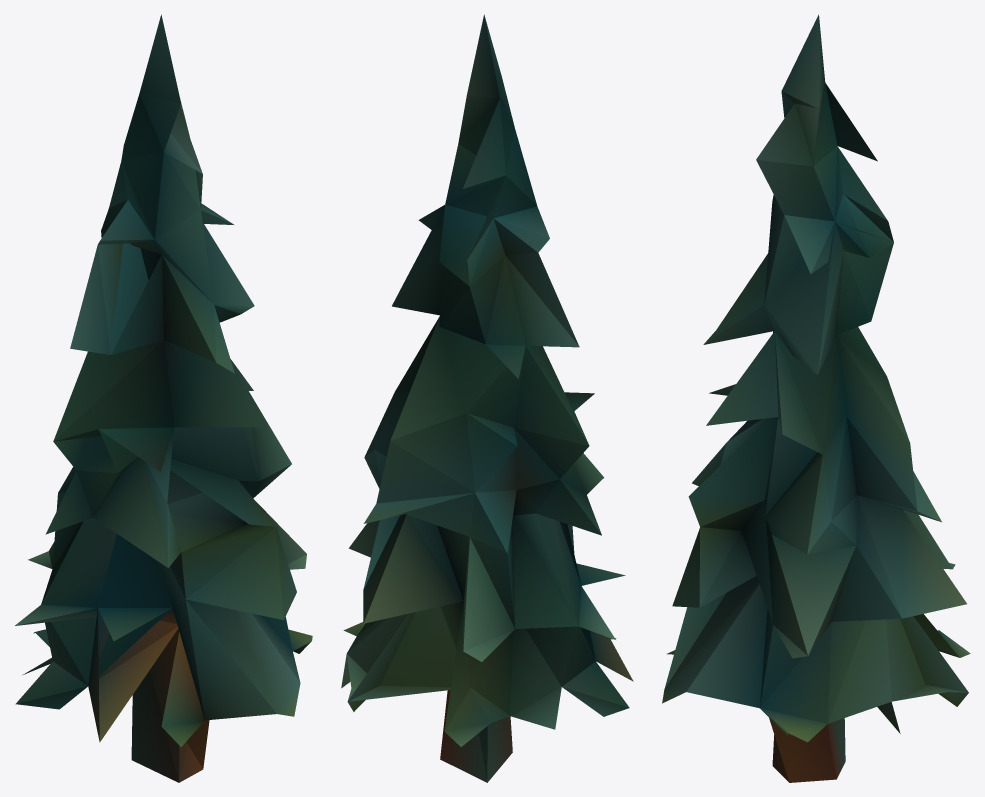
File: tree-fir.glb
The picture shows the model from 3 angles, left to right: view 1: azimuth 30°, elevation 25°; view 2: azimuth 150°, elevation 25°; view 3: azimuth 270°, elevation 25°; orthographic projection.
Parts seen in each view (by area): view 1: tree-fir-far; view 2: tree-fir-far; view 3: tree-fir-far.
Boxes of the visible parts, x1,y1,x2,y2 form: tree-fir-far: (15,14,312,782); tree-fir-far: (341,14,633,782); tree-fir-far: (662,14,970,782).
Bounding box in the file's own units: 6.49 × 16 × 5.92.
